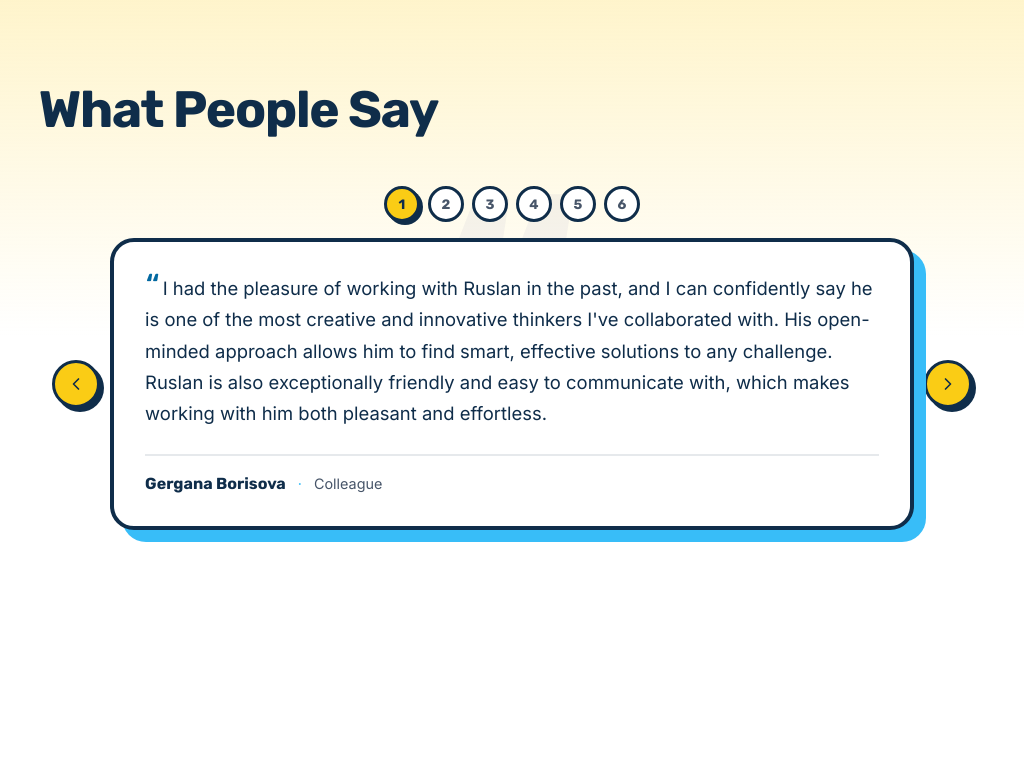
Test: Feedbacks › selects testimonial via counter button
Click the button named "Testimonial 3 of 6" at (490, 204), box [472, 186, 508, 222]
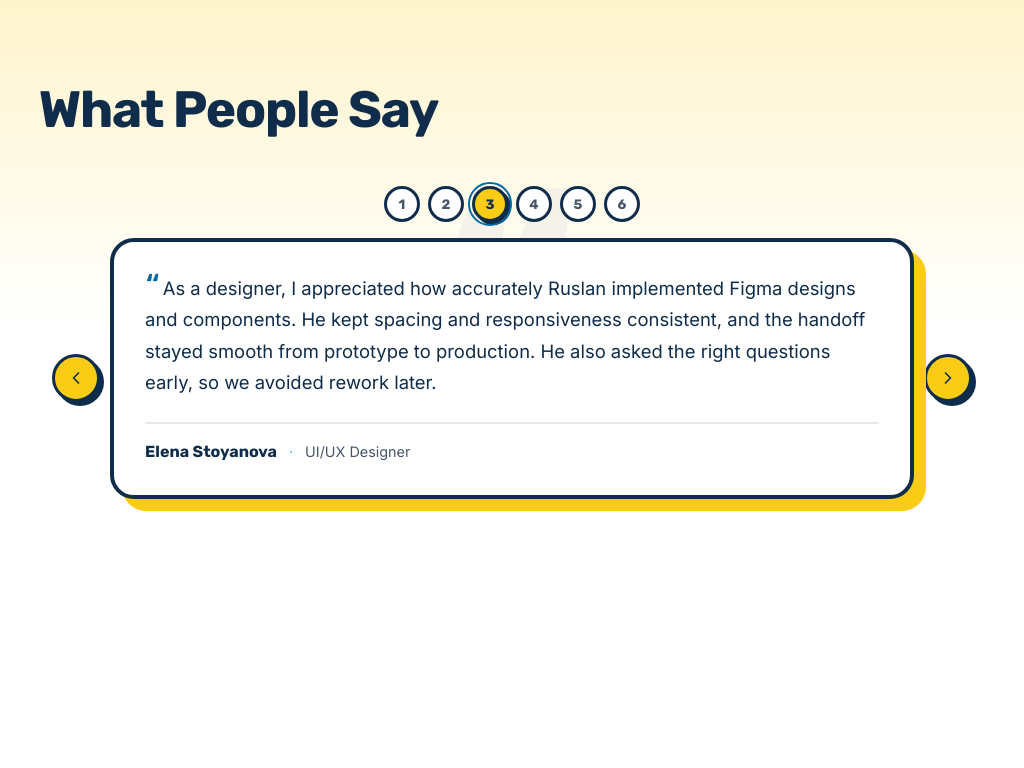
Now the text "Elena Stoyanova" is shown, box [145, 440, 277, 464]
